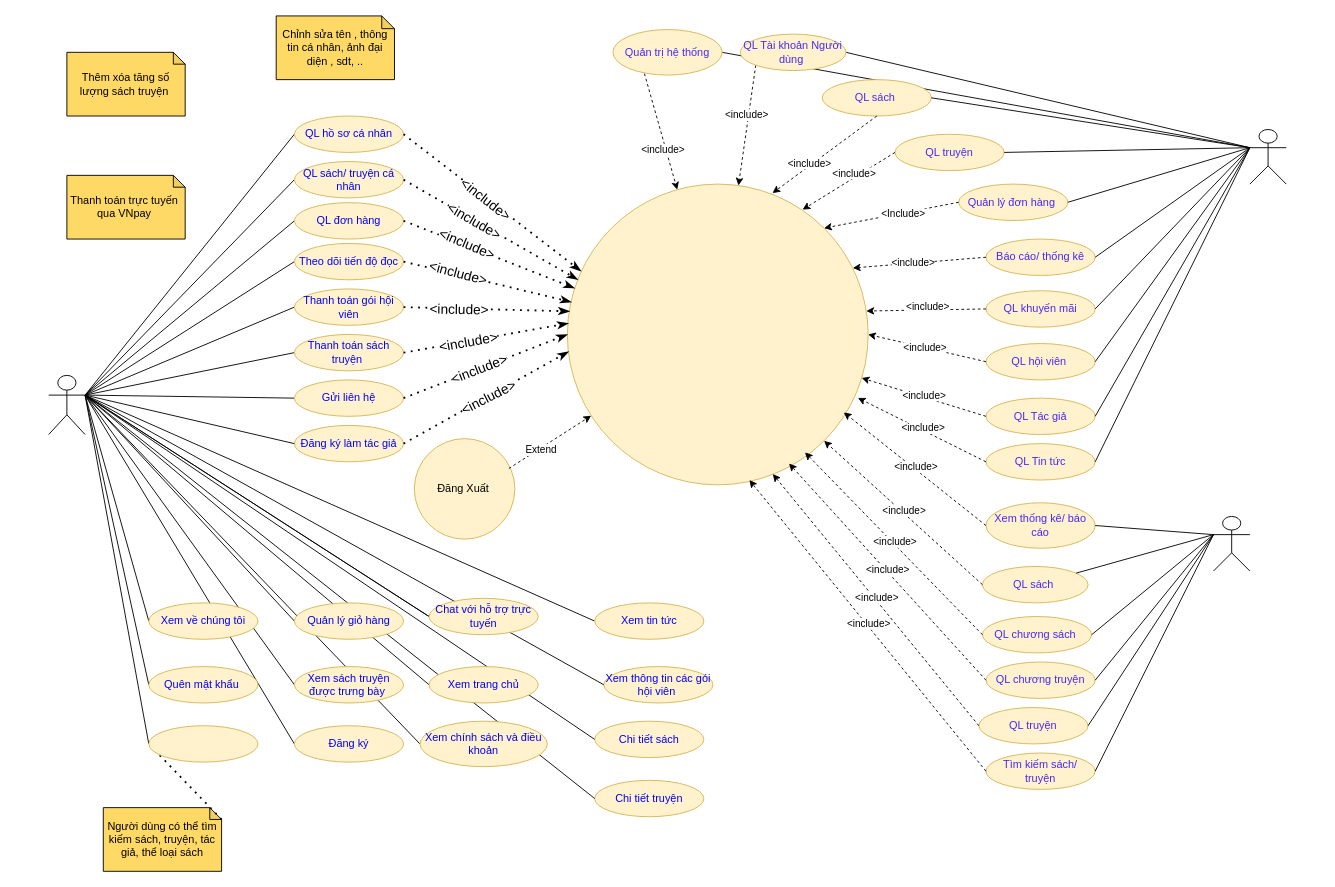
This 1335x887 diagram has some shape labels left out. Each missing label, with the box of its shape:
Người dùng: (48, 374, 85, 435)
Quản trị viên: (1249, 129, 1286, 184)
Tim kiếm: (148, 725, 258, 762)
Tác giả: (1213, 516, 1250, 571)
Đăng nhập: (566, 183, 868, 485)
